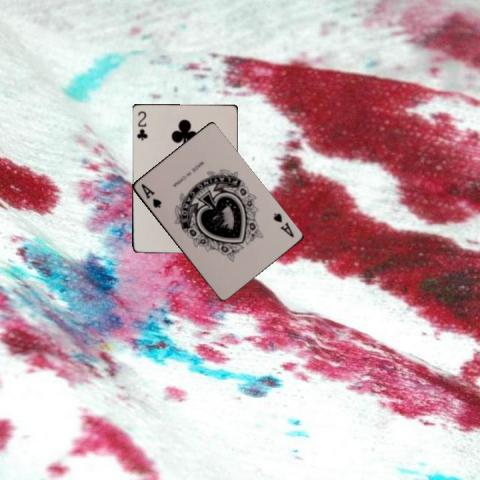2c: (133, 108, 149, 141)
As: (270, 210, 295, 239), (138, 181, 163, 209)
